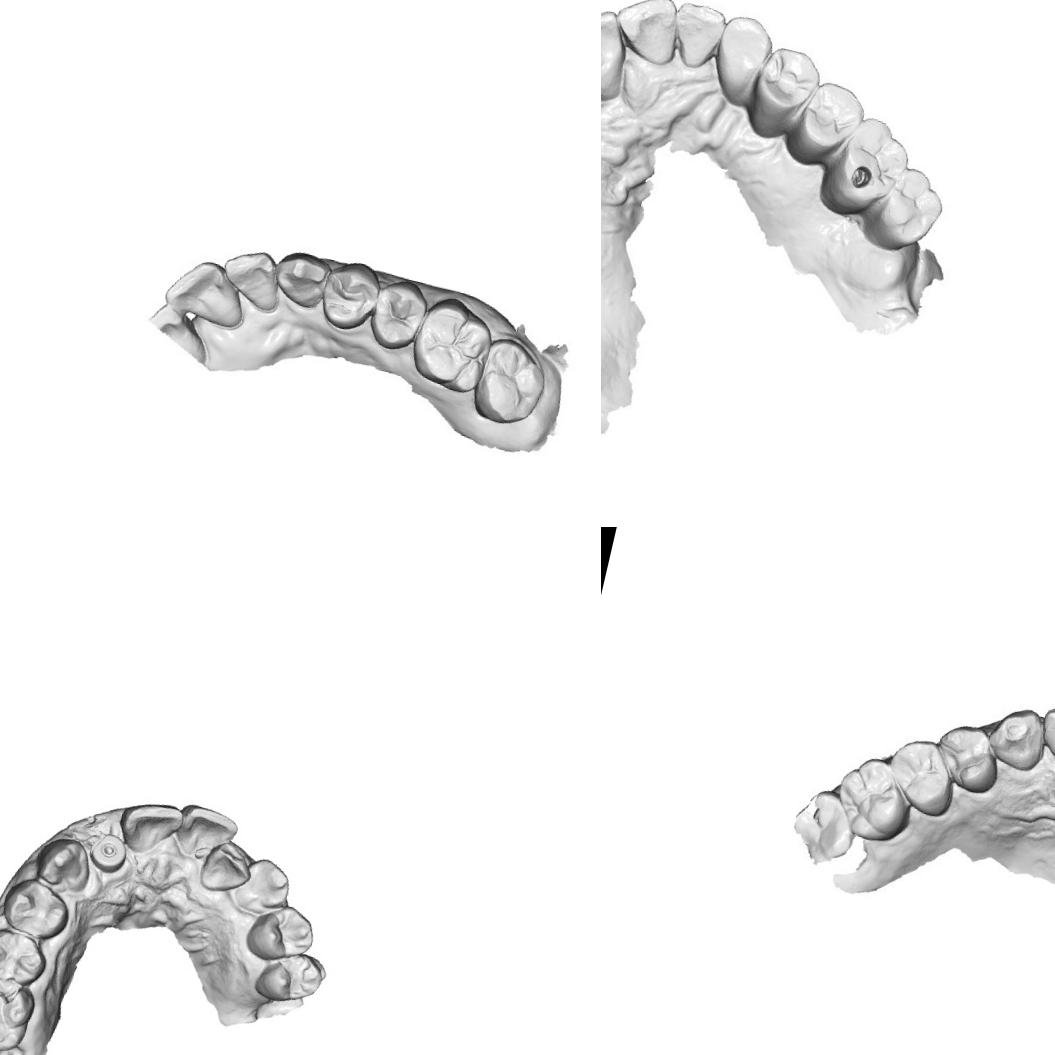canine: (702, 4, 780, 113), (28, 826, 96, 897), (269, 246, 332, 313), (233, 852, 297, 916), (988, 705, 1046, 770)
implant: (88, 830, 128, 872)
incisor: (158, 252, 252, 334), (214, 243, 287, 316), (113, 794, 185, 862), (612, 0, 682, 69), (168, 801, 238, 869), (665, 0, 727, 71), (194, 835, 257, 901), (601, 3, 630, 94), (1037, 702, 1055, 761)
molar: (811, 106, 913, 229), (404, 288, 502, 399), (856, 156, 953, 260), (466, 332, 552, 432), (828, 754, 913, 844), (0, 965, 41, 1054)
premolar: (784, 74, 868, 176), (748, 40, 818, 146), (883, 737, 959, 821), (313, 254, 386, 336), (364, 272, 435, 356), (242, 897, 319, 970), (0, 872, 75, 943), (253, 943, 329, 1013), (932, 722, 998, 791), (0, 923, 50, 988)
